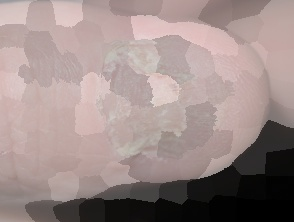Nail_psoriasis: (72, 24, 255, 188)
